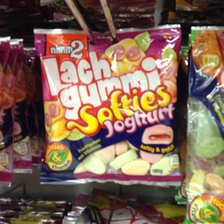candy: (30, 26, 183, 188), (179, 27, 224, 211)
